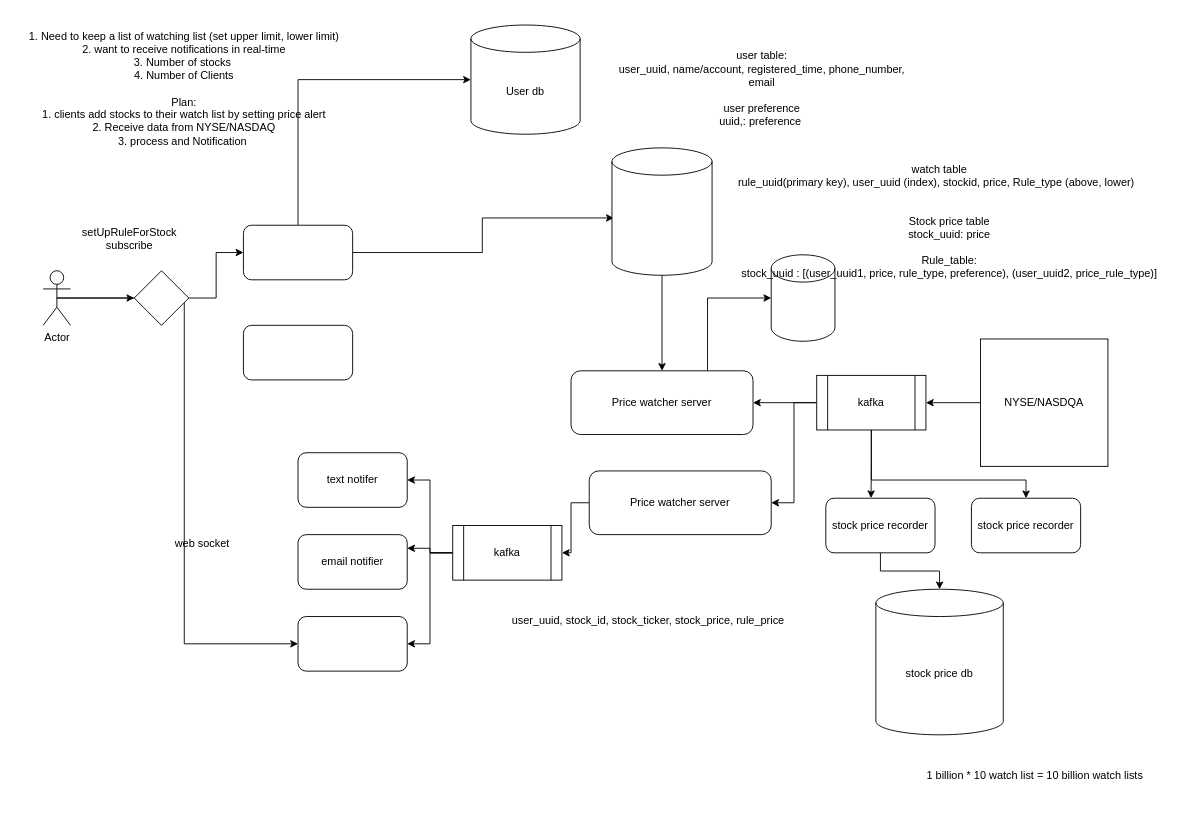
Some shapes in this 1197 by 832 pixel diagram are drawn without their labels. The shapes that lost their labels are listed below. From the top down, each one's box as (x1, y1, x2, y2) in pixels, then its label:
(611, 147, 712, 275): watch list db
(243, 224, 353, 280): subscribe/watch server
(133, 270, 189, 325): LB
(770, 254, 835, 341): Redis
(243, 324, 353, 380): Subsrice/watch server
(297, 616, 407, 671): App notifer
